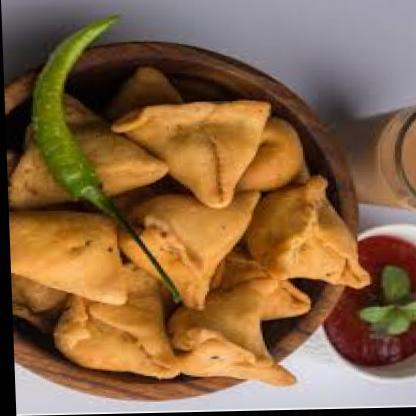samosa: (3, 91, 167, 208), (110, 101, 271, 210), (116, 191, 261, 312), (51, 264, 175, 381), (164, 278, 293, 390), (243, 176, 367, 291), (7, 208, 121, 306), (231, 118, 309, 194)
